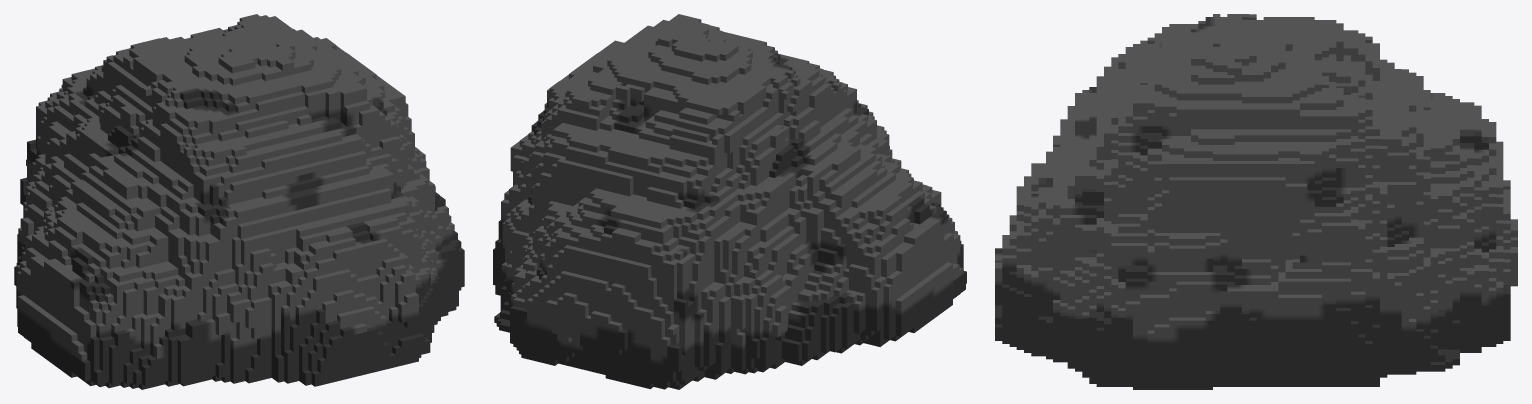
File: rock_2.dae
3 views of the same model, side by side, from view 1: azimuth 30°, elevation 25°; view 2: azimuth 150°, elevation 25°; view 3: azimuth 270°, elevation 25° (orthographic). The views are drawn at different scales.
Visible parts, largest first — view 1: GameObject; view 2: GameObject; view 3: GameObject.
Part boxes in pixels (<box>): GameObject: <box>14,14,464,389</box>; GameObject: <box>493,14,966,389</box>; GameObject: <box>995,14,1517,389</box>.
Size of the model in its own units: 6.5 by 4 by 7.2.
1 material, 1 textured.
